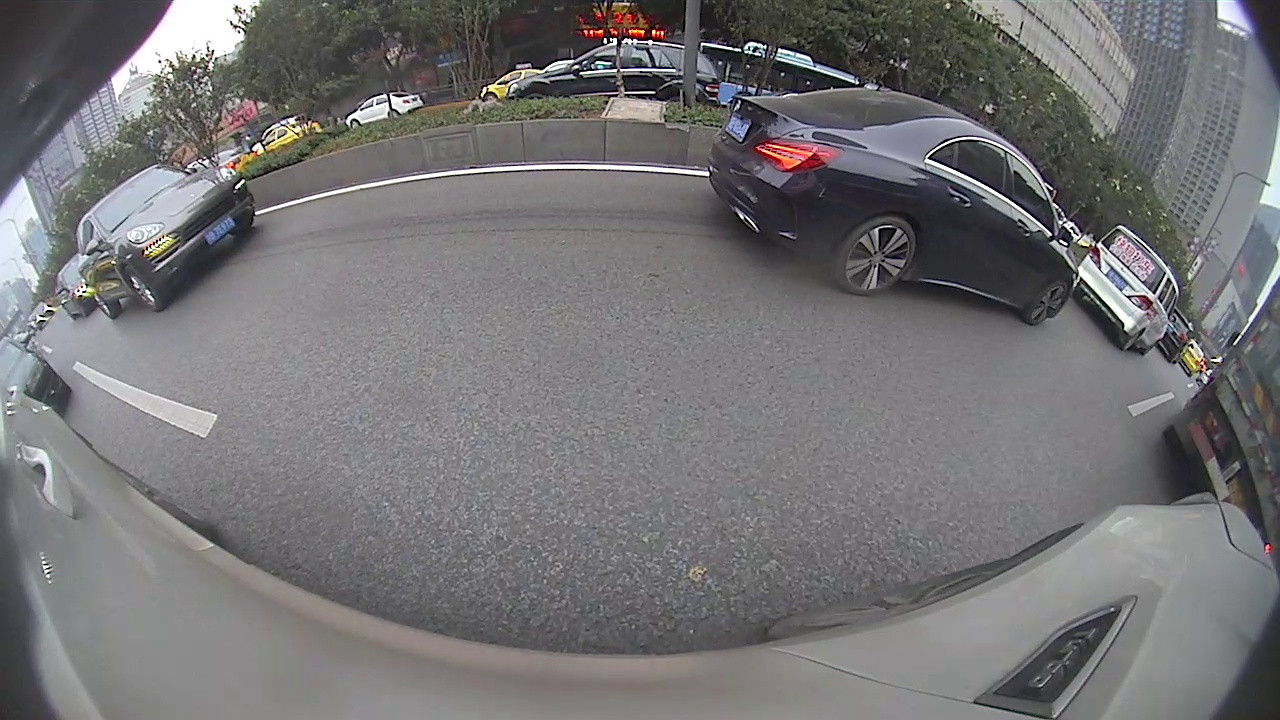car: (704, 88, 1077, 327), (73, 163, 256, 322), (1073, 223, 1184, 354)
front: (1026, 282, 1070, 325), (122, 267, 163, 311)
rear: (839, 217, 914, 296)
